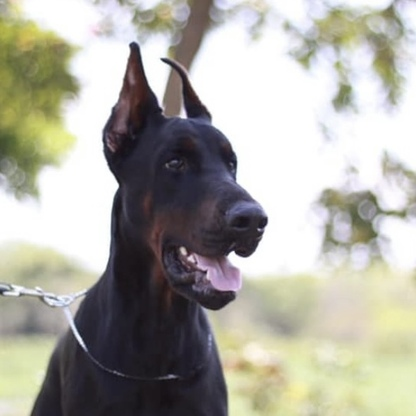doberman: (42, 40, 272, 416)
